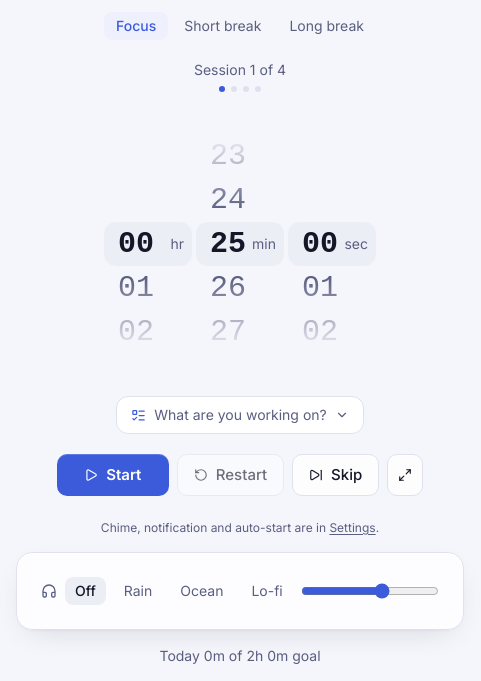
Test: the Focus page › lets the student choose a task, shows it under the clock, and clears it
This screenshot has width=481, height=681.
(page scrolled)
Click the button "What are you working on?": click(240, 415) [116,396,364,434]
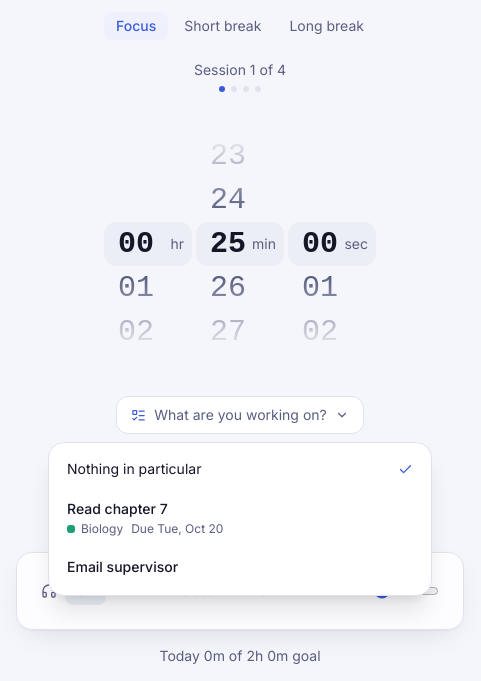
Check: the text "Biology" is shown, box [67,521,123,537]
Click the option "Read chapter 7 Biology Due Tue, Oct 20": click(117, 508) [55,489,425,547]
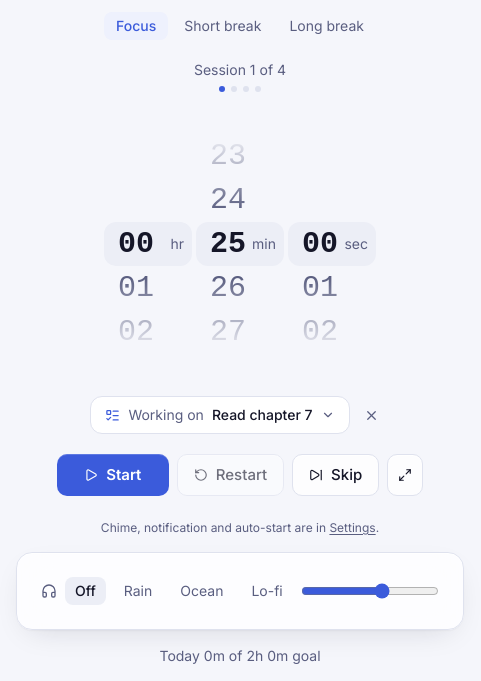
Check: the list is gone
Click the button "Start": click(113, 475) [57,454,169,496]
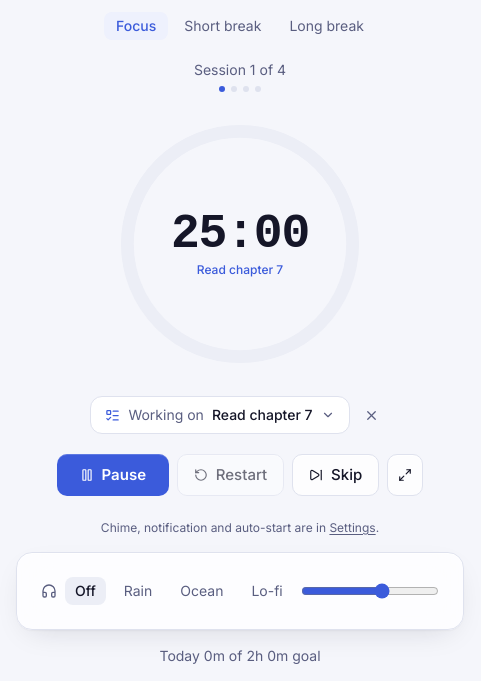
Click the button named "Clear the task": click(372, 415) [354,397,390,433]
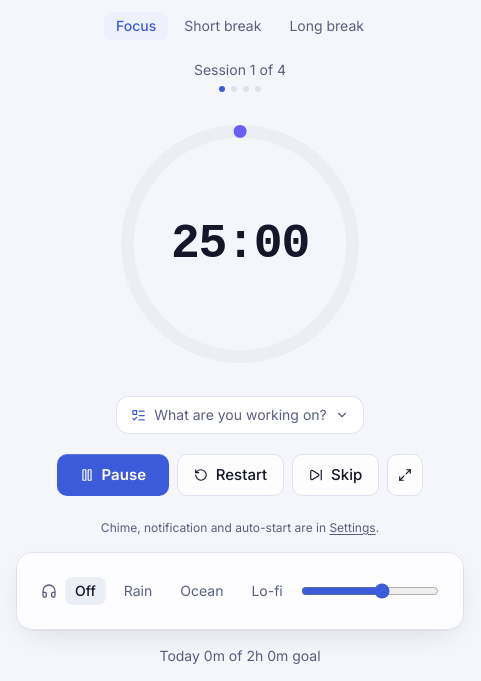
Check: the button "What are you working on?" is shown, box [116,396,364,434]
